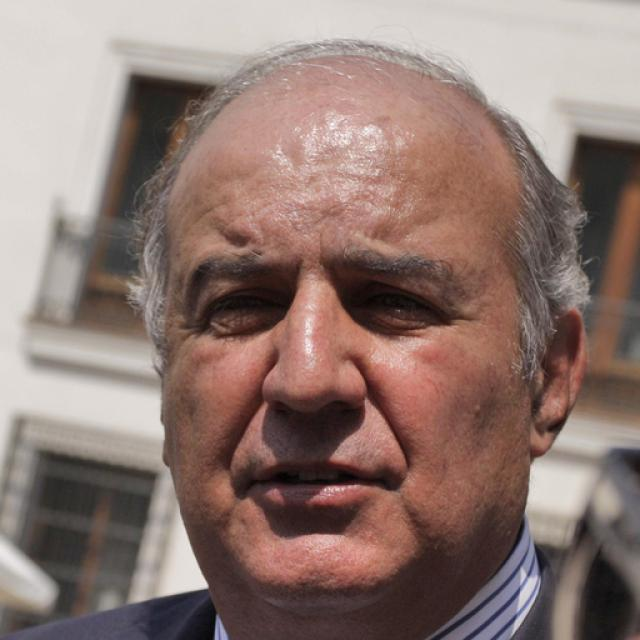anger: (156, 85, 536, 599)
